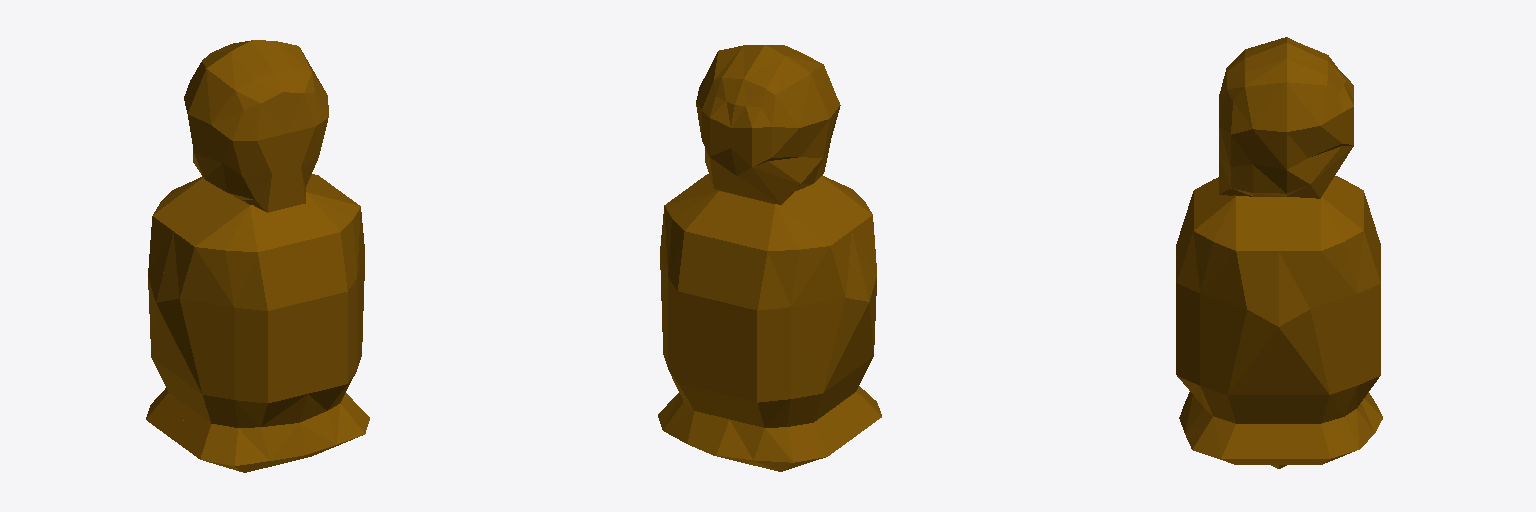
3 renders of one model, left to right at view 1: azimuth 30°, elevation 25°; view 2: azimuth 150°, elevation 25°; view 3: azimuth 270°, elevation 25°, orthographic.
Parts seen in each view (by area): view 1: group10 pCube2, pCube5 group10; view 2: group10 pCube2, pCube5 group10; view 3: group10 pCube2, pCube5 group10.
Part boxes in pixels (x1,y1,x2,y2): group10 pCube2: (146,174,369,472); pCube5 group10: (184,40,328,212); group10 pCube2: (658,174,881,471); pCube5 group10: (696,45,840,204); group10 pCube2: (1176,176,1382,468); pCube5 group10: (1219,37,1353,198).
Size of the model in its own units: 1.6 by 3.25 by 1.43.
Materials: 1 (1 with a texture image).